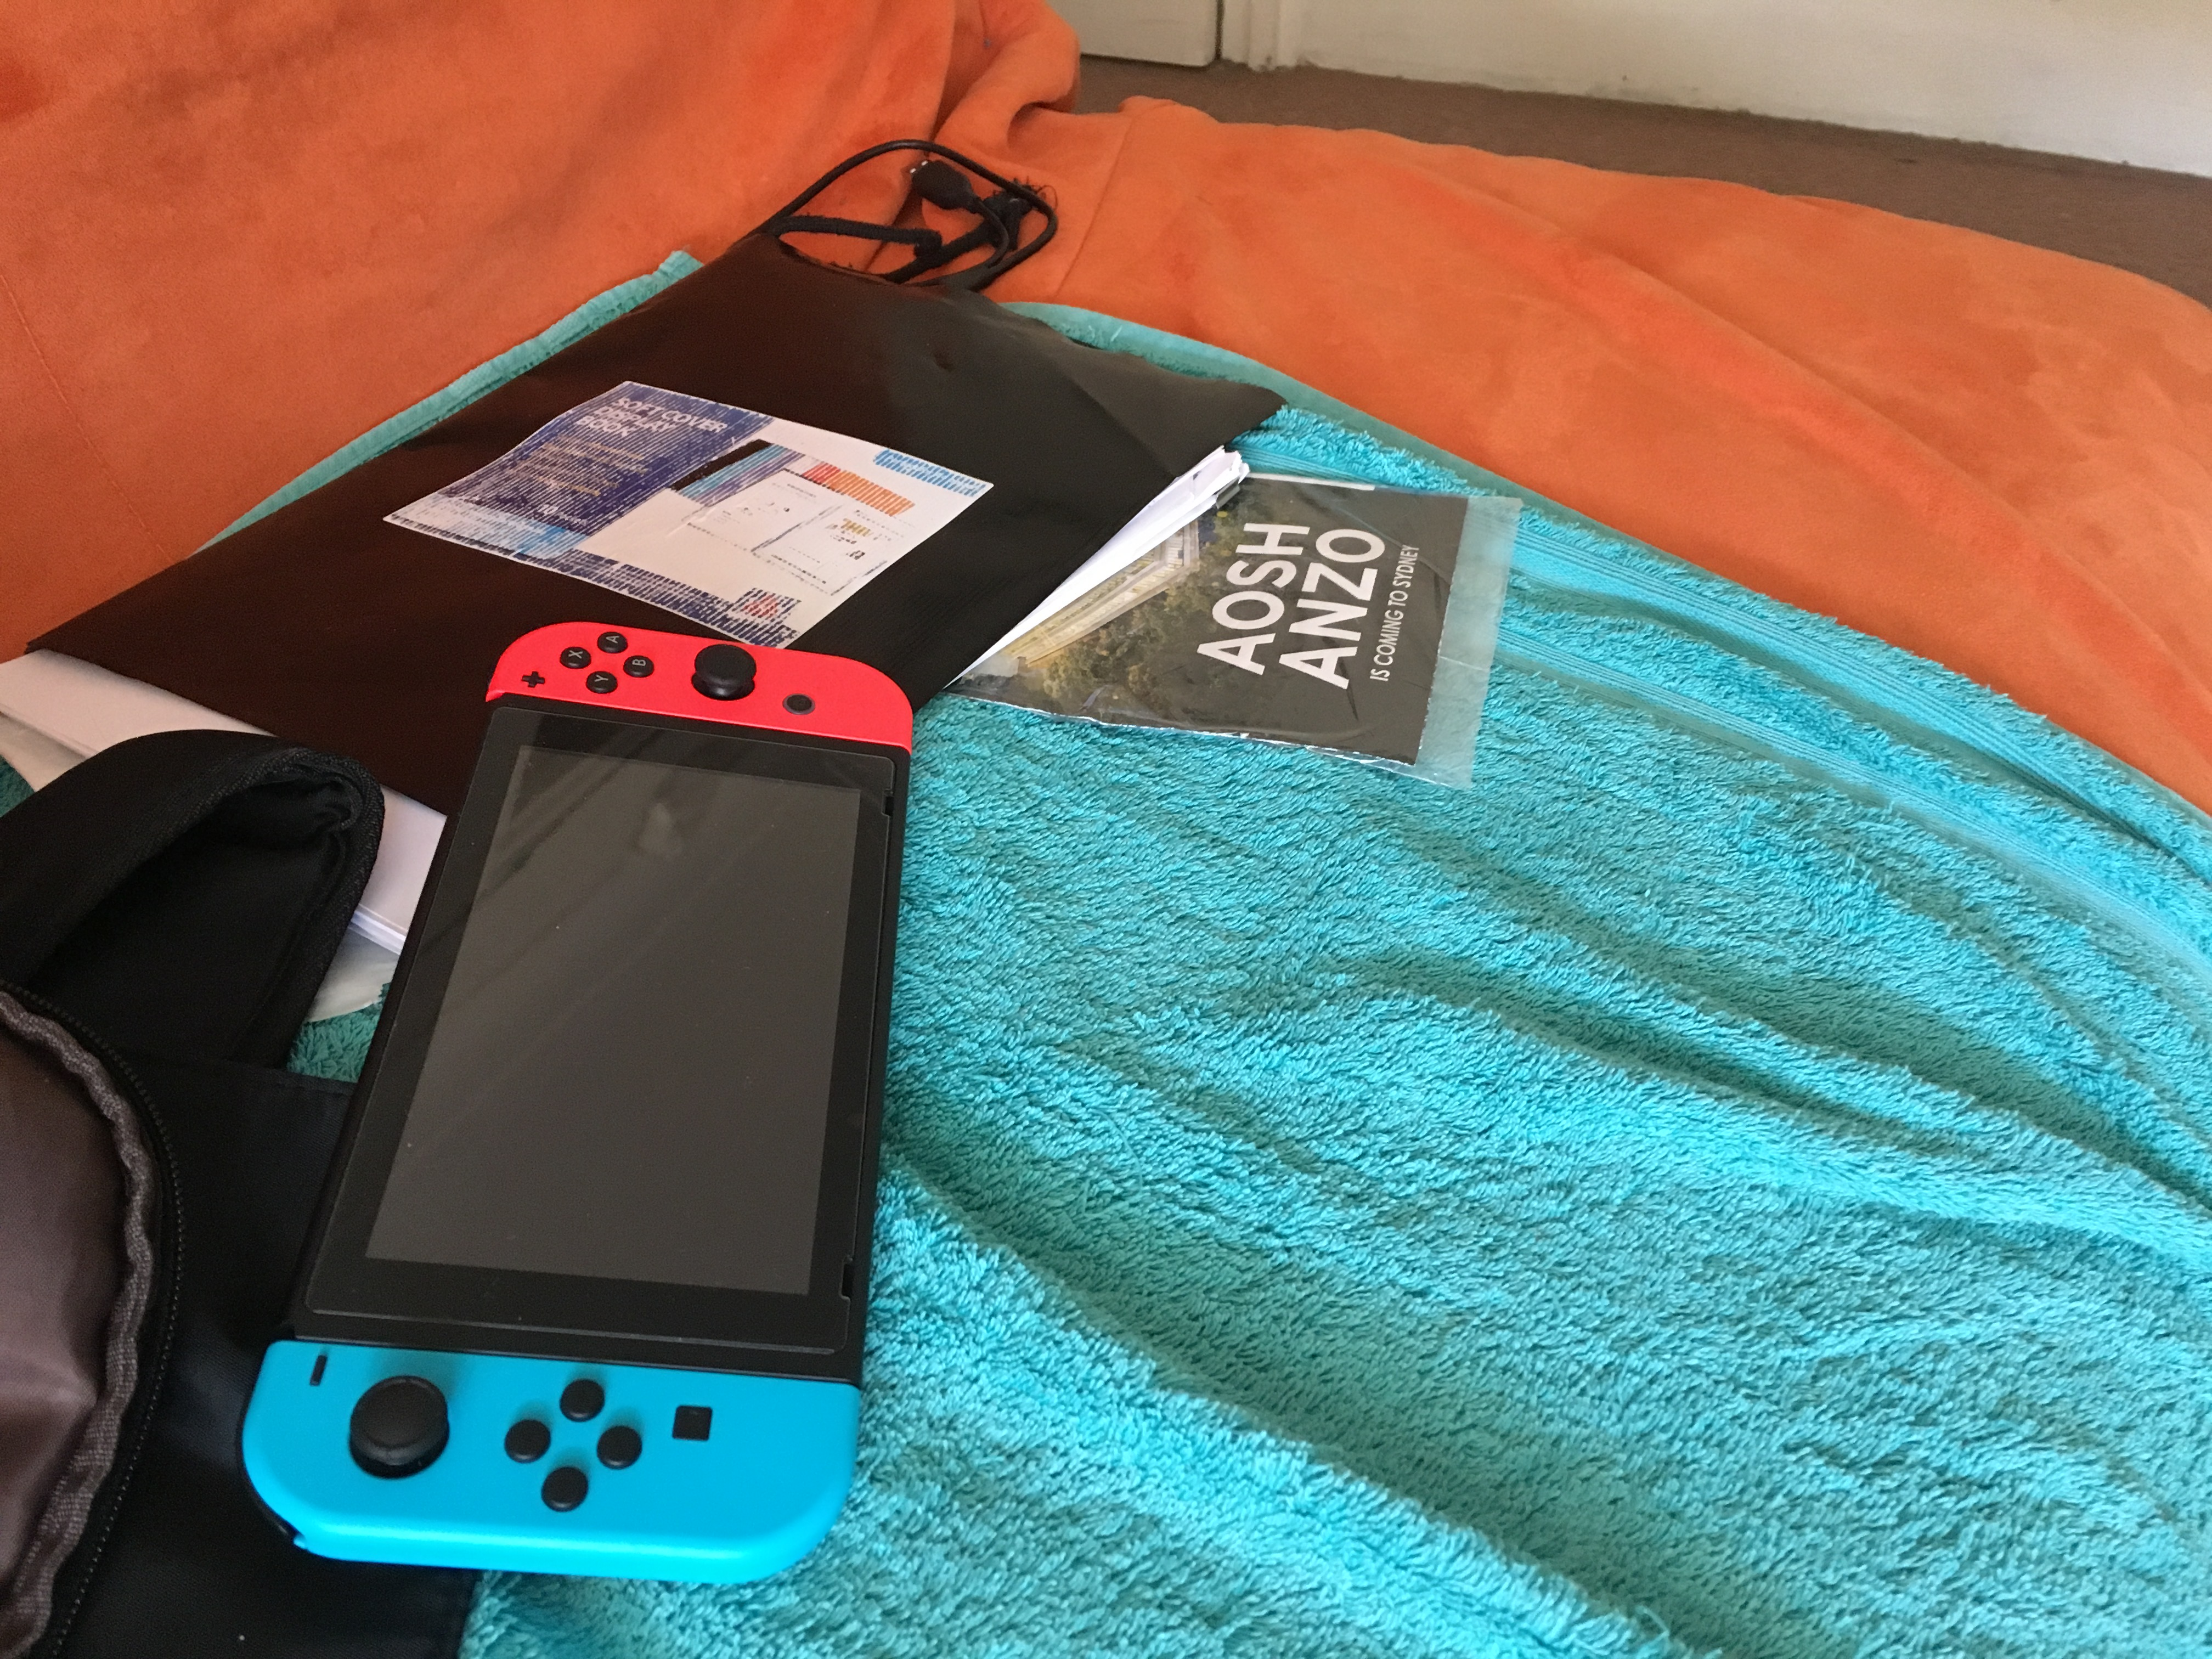NintendoSwitch: (225, 613, 934, 1593)
